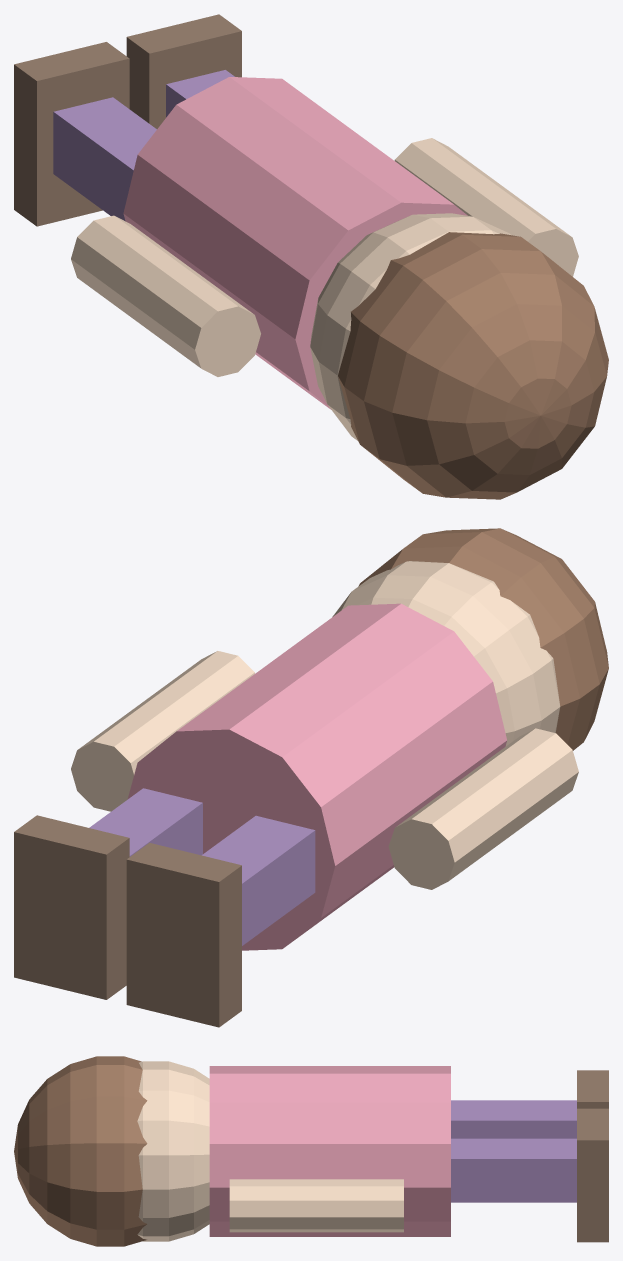
The model's file is Elif.glb.
3 views of the same model, one above another, from view 1: azimuth 30°, elevation 25°; view 2: azimuth 150°, elevation 25°; view 3: azimuth 270°, elevation 25° (orthographic). The views are drawn at different scales.
Parts seen in each view (by area): view 1: hair, body, arm_l, boot_l, head, leg_l, arm_r, boot_r, leg_r; view 2: body, boot_l, boot_r, hair, arm_l, head, arm_r, leg_l, leg_r; view 3: body, hair, head, arm_r, leg_r, leg_l, boot_r, boot_l.
Boxes of the visible parts, left/top/right/bottom form: hair: left=338, top=232, right=608, bottom=499; body: left=123, top=77, right=467, bottom=409; arm_l: left=71, top=215, right=260, bottom=376; boot_l: left=14, top=42, right=129, bottom=226; head: left=310, top=213, right=511, bottom=440; leg_l: left=53, top=97, right=156, bottom=221; arm_r: left=394, top=138, right=578, bottom=276; boot_r: left=126, top=14, right=241, bottom=128; leg_r: left=166, top=70, right=234, bottom=117; body: left=127, top=603, right=507, bottom=950; boot_l: left=126, top=842, right=241, bottom=1027; boot_r: left=14, top=815, right=129, bottom=999; hair: left=358, top=528, right=608, bottom=750; arm_l: left=388, top=728, right=578, bottom=889; head: left=332, top=561, right=560, bottom=746; arm_r: left=71, top=651, right=254, bottom=811; leg_l: left=202, top=815, right=315, bottom=945; leg_r: left=89, top=788, right=202, bottom=856; body: left=209, top=1066, right=450, bottom=1236; hair: left=14, top=1056, right=147, bottom=1246; head: left=137, top=1061, right=209, bottom=1241; arm_r: left=229, top=1179, right=403, bottom=1232; leg_r: left=451, top=1138, right=576, bottom=1202; leg_l: left=451, top=1100, right=576, bottom=1138; boot_r: left=577, top=1108, right=608, bottom=1242; boot_l: left=577, top=1070, right=608, bottom=1108.
Size of the model in its own units: 1.16 by 0.7127 by 2.22.
